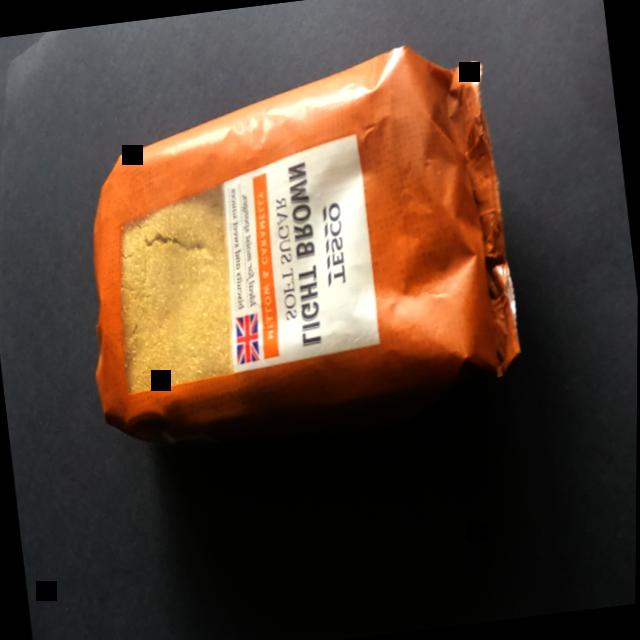Brownsugar: (23, 9, 563, 490)
